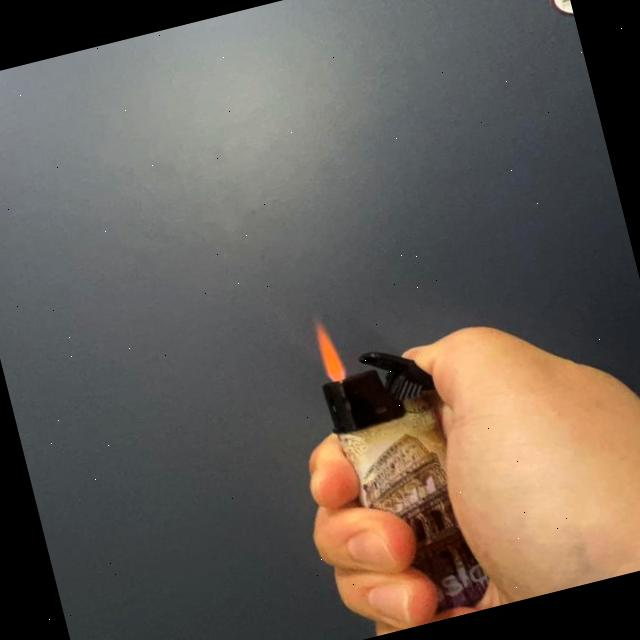fire: (307, 314, 353, 386)
